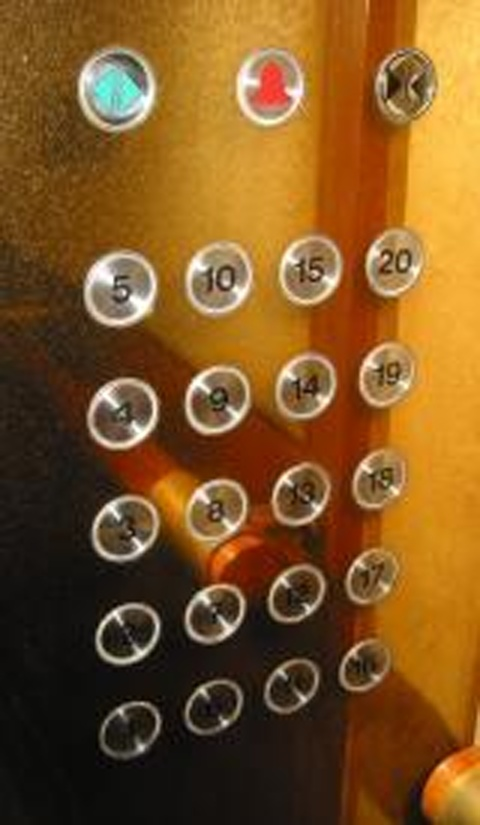10: (183, 239, 253, 319)
12: (266, 562, 326, 623)
13: (269, 460, 334, 528)
14: (271, 350, 338, 419)
15: (279, 234, 342, 308)
17: (344, 547, 398, 604)
18: (352, 447, 407, 510)
19: (355, 341, 415, 407)
2: (97, 601, 161, 666)
20: (362, 226, 425, 296)
3: (89, 493, 159, 563)
4: (84, 376, 158, 450)
5: (81, 246, 158, 330)
7: (180, 583, 250, 645)
8: (183, 476, 248, 540)
9: (183, 363, 254, 437)
alarm: (234, 47, 304, 128)
blur: (95, 698, 163, 761), (183, 675, 247, 738), (260, 657, 320, 716), (338, 637, 391, 692)
close: (372, 45, 440, 124)
open: (80, 47, 156, 133)
